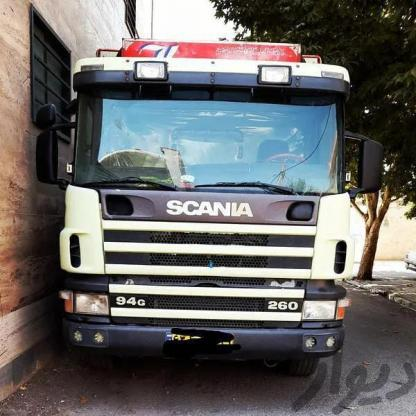Truck: (49, 51, 369, 373)
